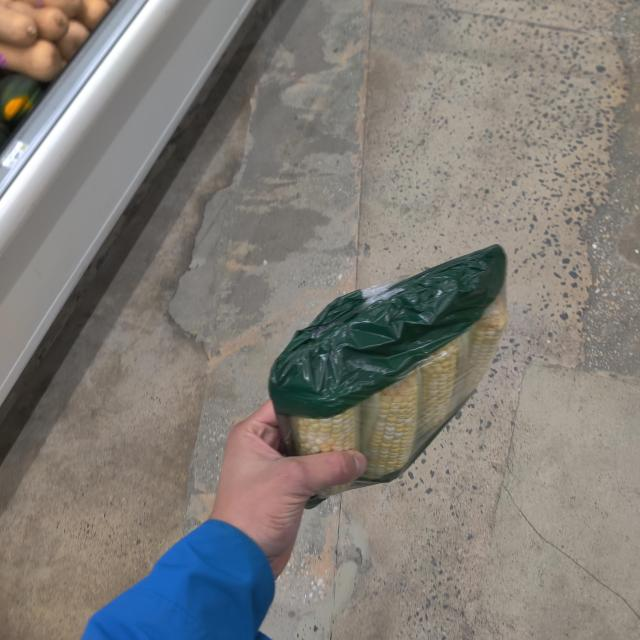Corn: (242, 232, 566, 494)
